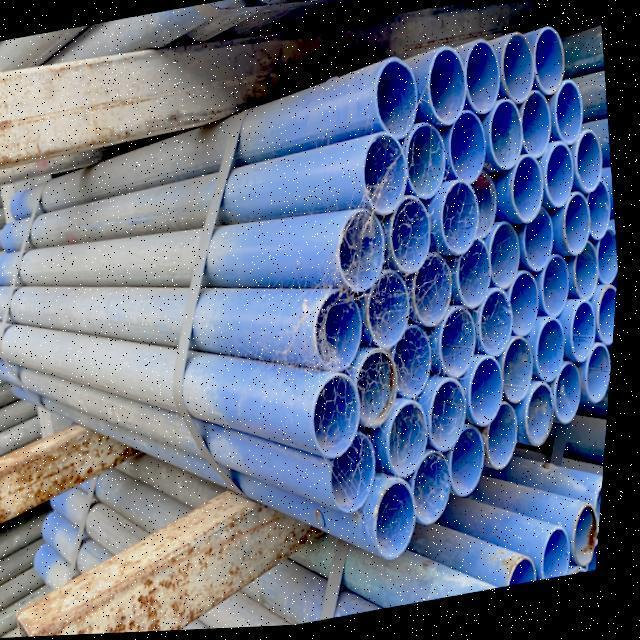pipe: (306, 366, 378, 468), (330, 206, 400, 304), (327, 425, 395, 523), (364, 55, 430, 152), (496, 29, 571, 114), (432, 180, 503, 266), (448, 38, 514, 128), (380, 402, 447, 490), (358, 133, 422, 225), (371, 478, 433, 570), (416, 44, 476, 138), (362, 271, 426, 357), (384, 196, 446, 284), (408, 452, 473, 532), (434, 306, 494, 392), (407, 255, 468, 338), (426, 377, 486, 461), (442, 429, 502, 512), (440, 112, 498, 193), (402, 123, 460, 204), (474, 287, 530, 368), (503, 154, 559, 235), (498, 335, 552, 419), (464, 357, 518, 438), (481, 402, 535, 483), (452, 238, 507, 317), (484, 100, 538, 180), (564, 288, 612, 376), (556, 188, 606, 268), (516, 90, 568, 166), (486, 220, 534, 300), (505, 270, 553, 348), (518, 208, 567, 283), (539, 250, 584, 328), (524, 383, 570, 459), (569, 130, 614, 206), (549, 83, 594, 158), (534, 318, 578, 392), (546, 522, 596, 586), (552, 362, 596, 432), (583, 182, 623, 254), (580, 344, 618, 416), (571, 508, 609, 576), (571, 243, 609, 310), (594, 284, 622, 364), (594, 230, 626, 298), (507, 552, 552, 592), (595, 478, 611, 548)
